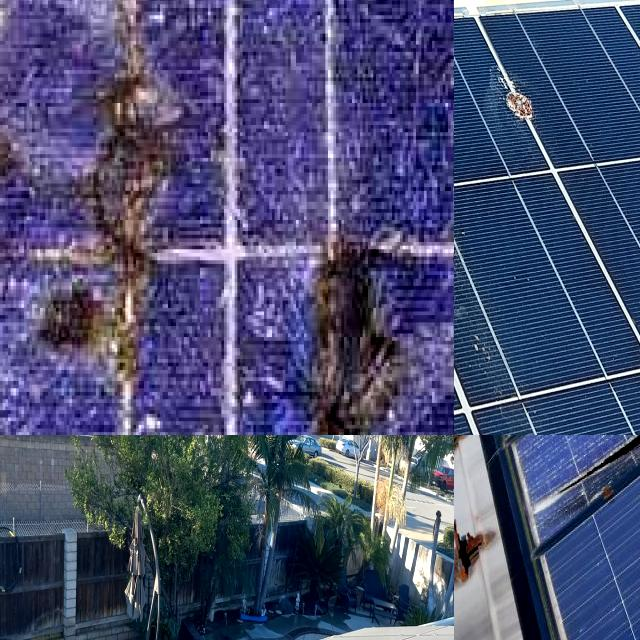bird: (480, 50, 553, 132), (454, 201, 492, 342), (454, 36, 484, 149), (454, 95, 476, 174), (454, 172, 479, 238)
hotspot: (517, 435, 640, 551)
shadow: (49, 0, 184, 435), (0, 97, 100, 435), (290, 195, 430, 435)
